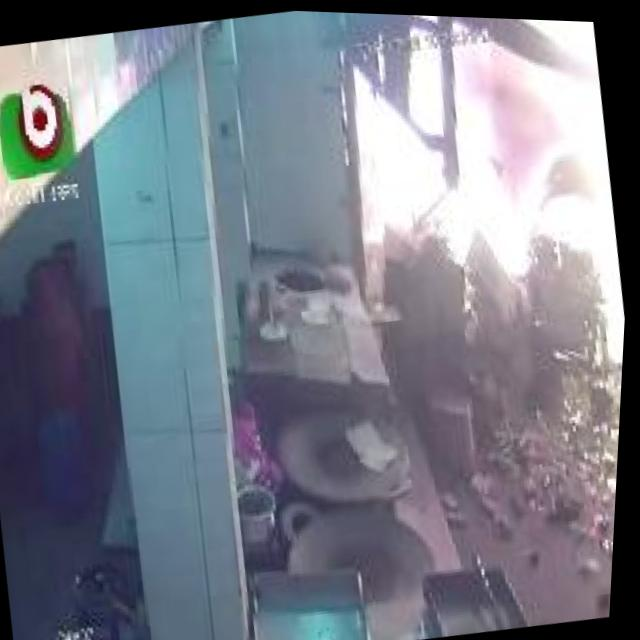fire: (337, 15, 562, 321), (463, 14, 640, 402)
